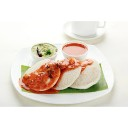idly: (23, 59, 59, 90), (56, 58, 81, 90), (79, 58, 101, 89)
